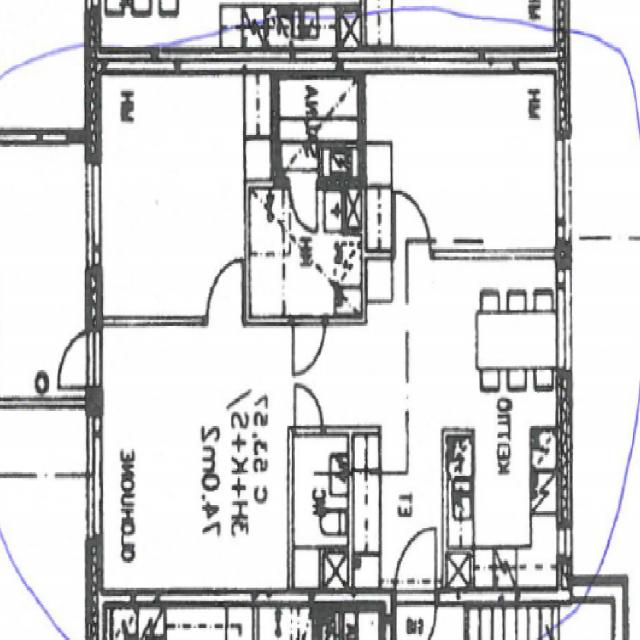door: (396, 526, 436, 603), (52, 331, 102, 387), (394, 192, 430, 256), (208, 259, 243, 323), (293, 316, 325, 374), (290, 175, 317, 232), (295, 383, 322, 433)
